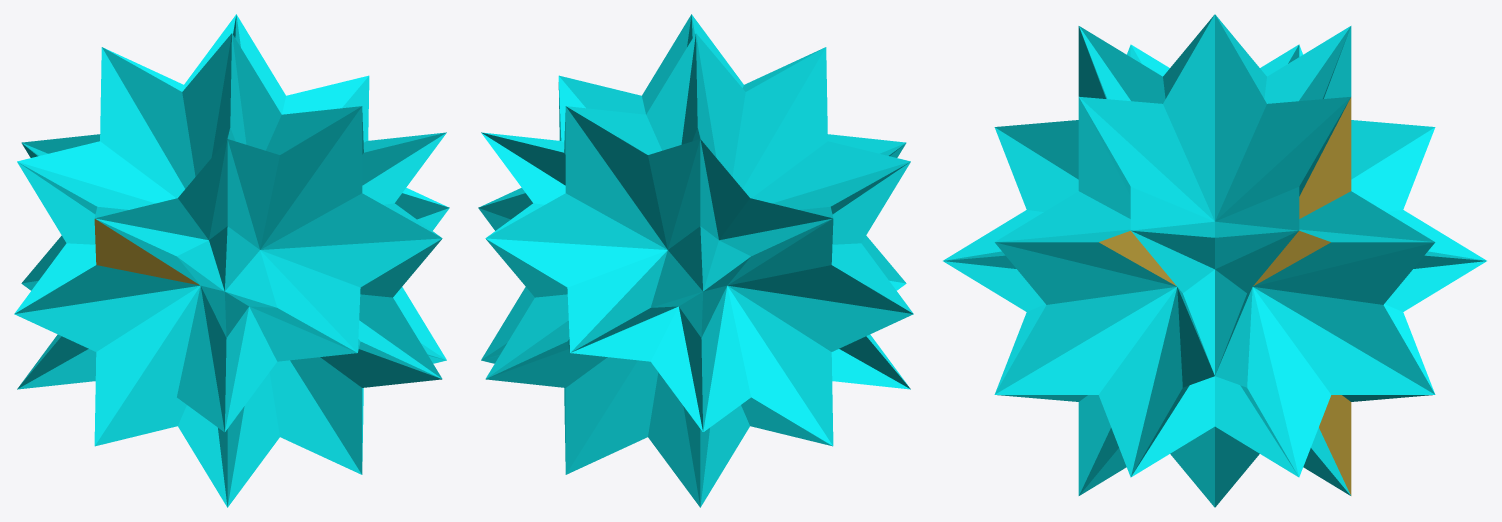
Rendered from Medal.fbx.
3 renders of one model, left to right at view 1: azimuth 30°, elevation 25°; view 2: azimuth 150°, elevation 25°; view 3: azimuth 270°, elevation 25°, orthographic. The views are drawn at different scales.
Visible parts, largest first — view 1: Medal; view 2: Medal; view 3: Medal.
Boxes of the visible parts, x1=… form: Medal: x1=14, y1=14, x2=449, y2=507; Medal: x1=478, y1=14, x2=913, y2=507; Medal: x1=943, y1=14, x2=1486, y2=507.
Bounding box in the file's own units: 6.58 × 6.58 × 6.58.
